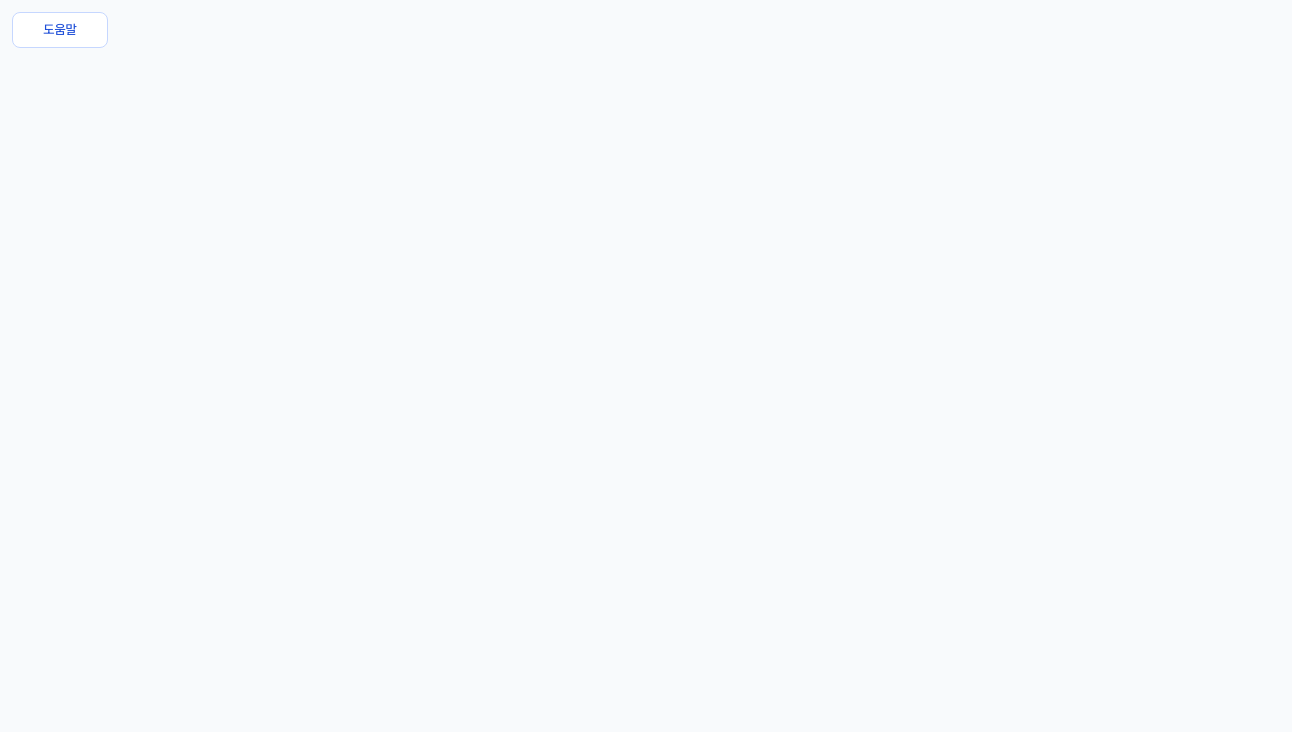
Test case: shows an immediate empty state rather than waiting for unavailable targets
Later steps or results of the test are not shown.
Step 1. Click the button "도움말" → (60, 30), box [12, 12, 108, 48]
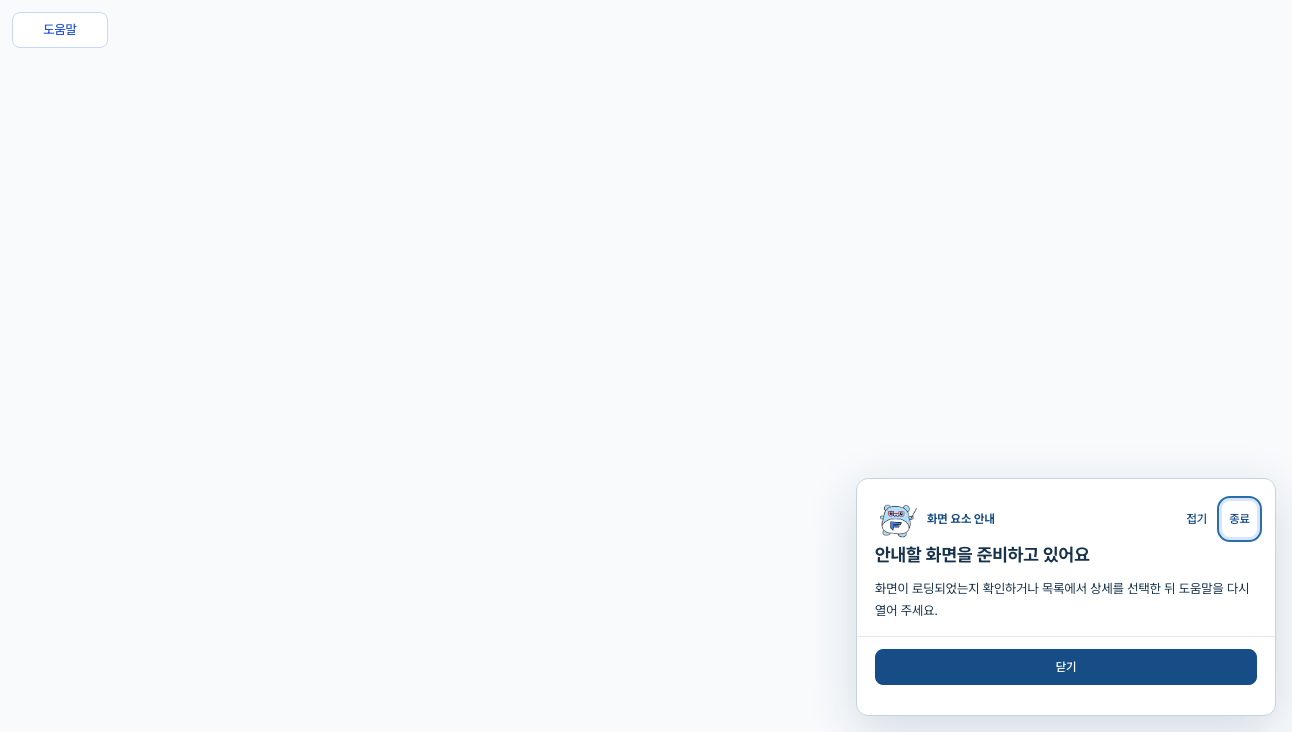
Now the heading "안내할 화면을 준비하고 있어요" is shown, box [875, 544, 1090, 565]
